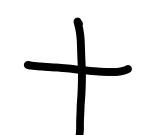minus: (23, 17, 131, 134)
